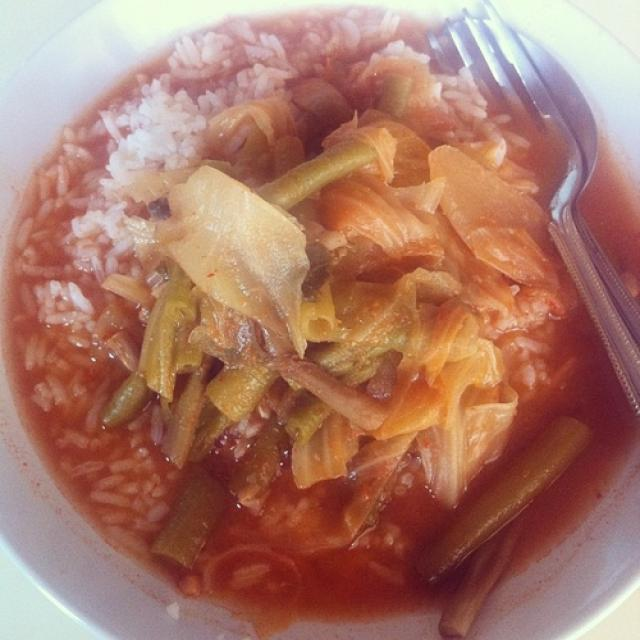汤锅炖物: (5, 10, 635, 618)
